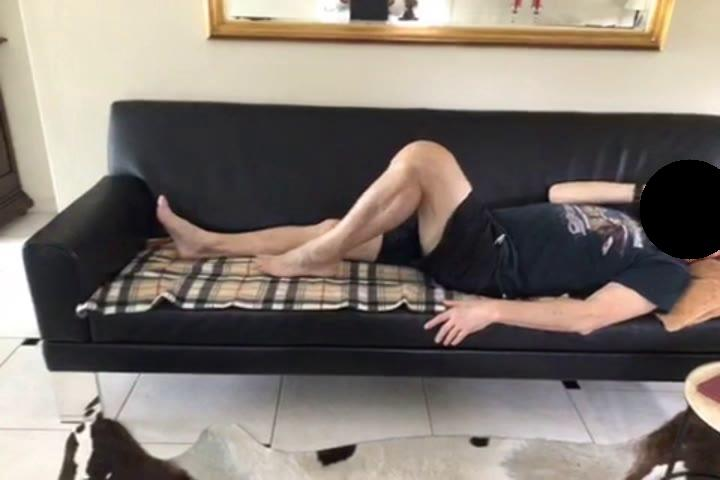lower_body: (157, 138, 515, 299)
